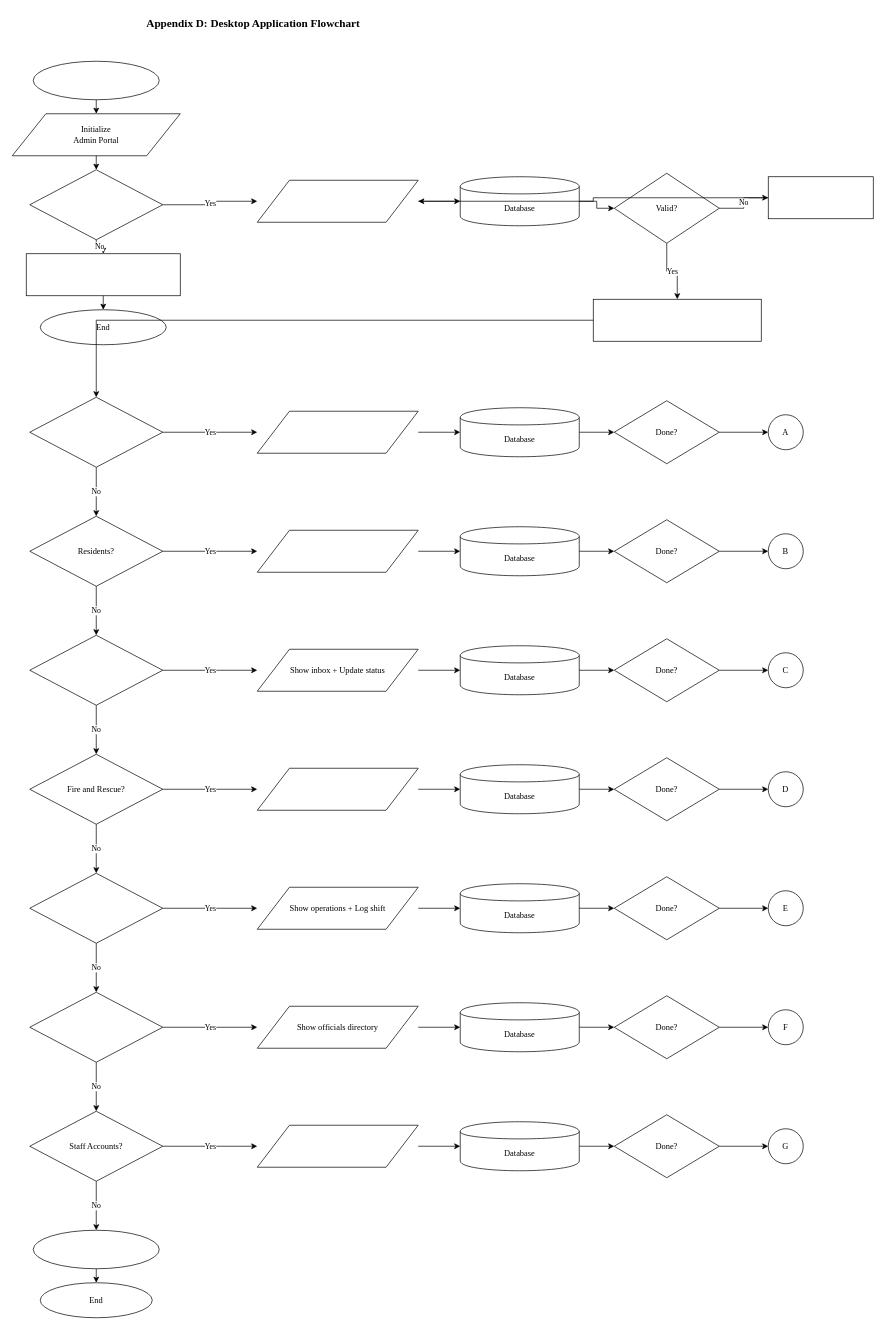
This 886x1330 diagram has some shape labels left out. The centre of each missing label's shape, as x and y in pixels:
Complaints + Inbox?: the point at 96,670
Council Directory?: the point at 96,1027
Daily Operations?: the point at 96,908
Done: the point at 96,1249
Input credentials: the point at 337,201
Login?: the point at 96,204
No account? Contact admin: the point at 103,274
Overview?: the point at 96,432
Show accounts + Add account: the point at 337,1146
Show census + Register resident: the point at 337,551
Show command + Log SOS / Broadcast: the point at 337,789
Show dashboard: the point at 677,320
Show population + BDRRM status: the point at 337,432
Start: the point at 96,80
Try again: the point at 820,197
